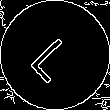L_NE: (26, 26, 84, 84)
